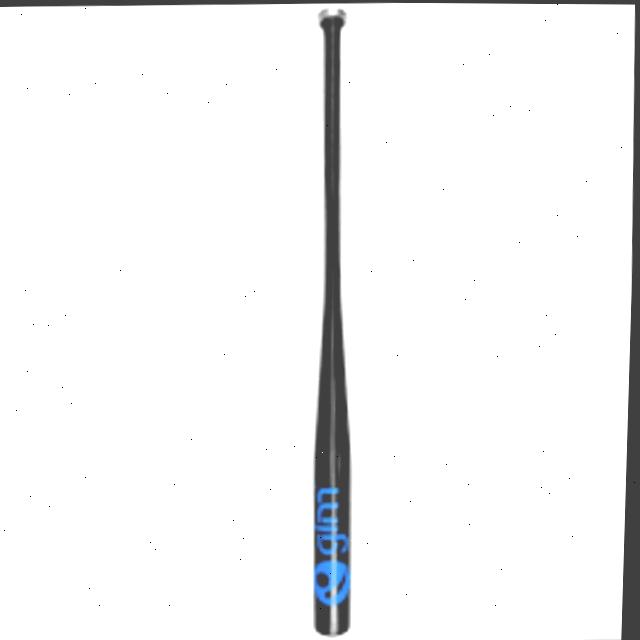baseball bat: (300, 4, 369, 637)
